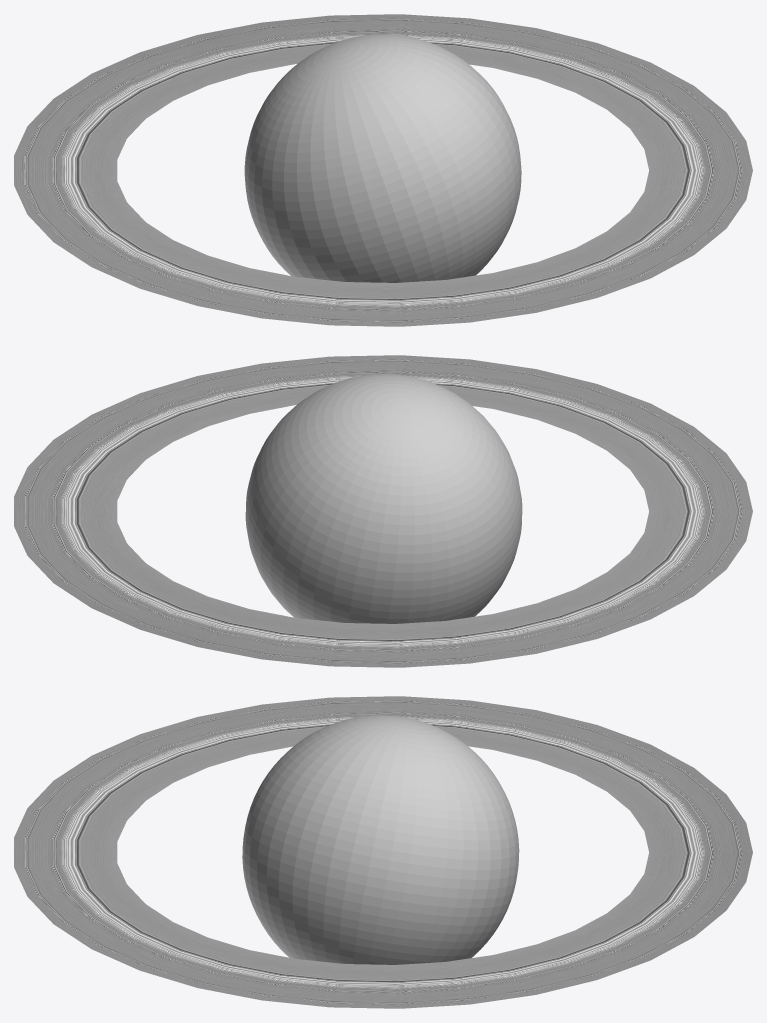
File: neptune.obj
3 views of the same model, one above another, from view 1: azimuth 30°, elevation 25°; view 2: azimuth 150°, elevation 25°; view 3: azimuth 270°, elevation 25° (orthographic).
Visible parts, largest first — view 1: Plane.001, Plane; view 2: Plane.001, Plane; view 3: Plane.001, Plane.
Part boxes in pixels (x1,y1,x2,y2): Plane.001: (14,14,752,326); Plane: (244,34,521,282); Plane.001: (14,355,752,667); Plane: (245,374,522,623); Plane.001: (14,696,752,1008); Plane: (242,715,519,964).
Bounding box in the file's own units: 6.96 × 2.61 × 6.96.
